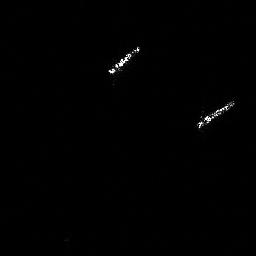ship: (195, 94, 238, 134), (108, 42, 141, 81)
